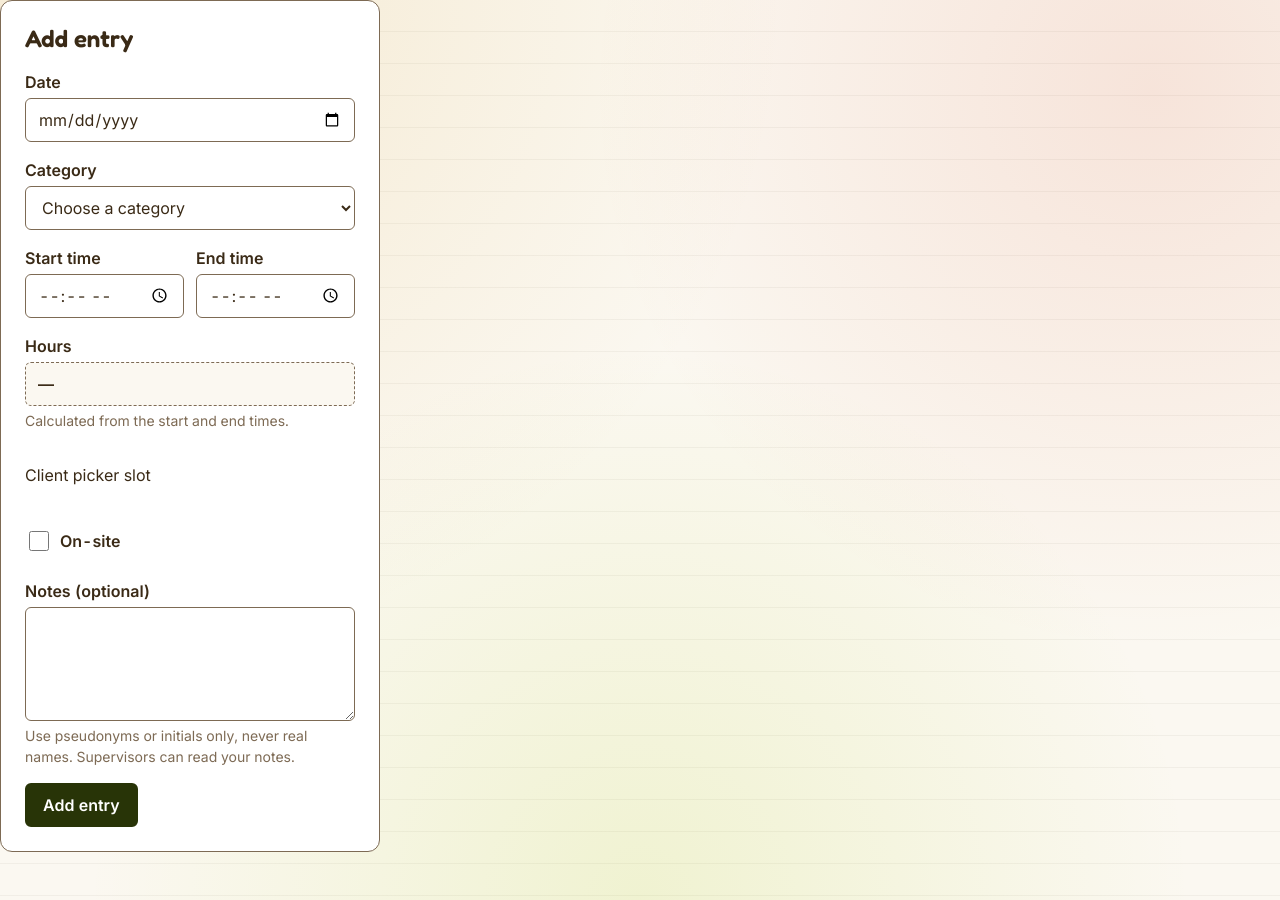
Test: adding an entry › works by clicking Add entry, sends the typed values without hours, then clears the form
The image size is (1280, 900).
Type "2026-10-12" into the date field labelled "Date". click: [190, 120]
box: [25,98,355,142]
Select "Individual Counseling" in the dropdown labelled "Category". click: [190, 208]
box: [25,186,355,230]
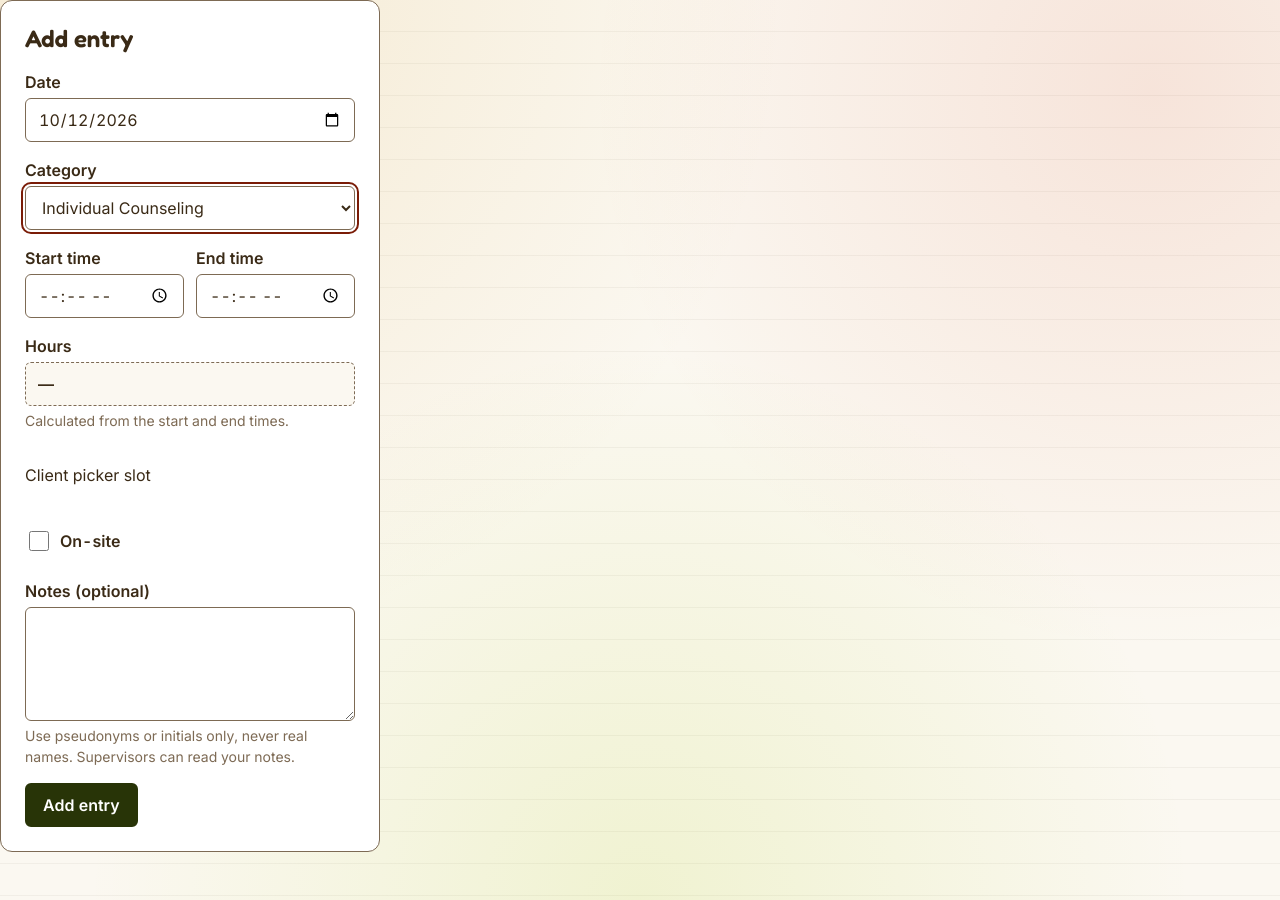
Type "0900" into the time field labelled "Start time". click: [104, 296]
box: [25,274,184,318]
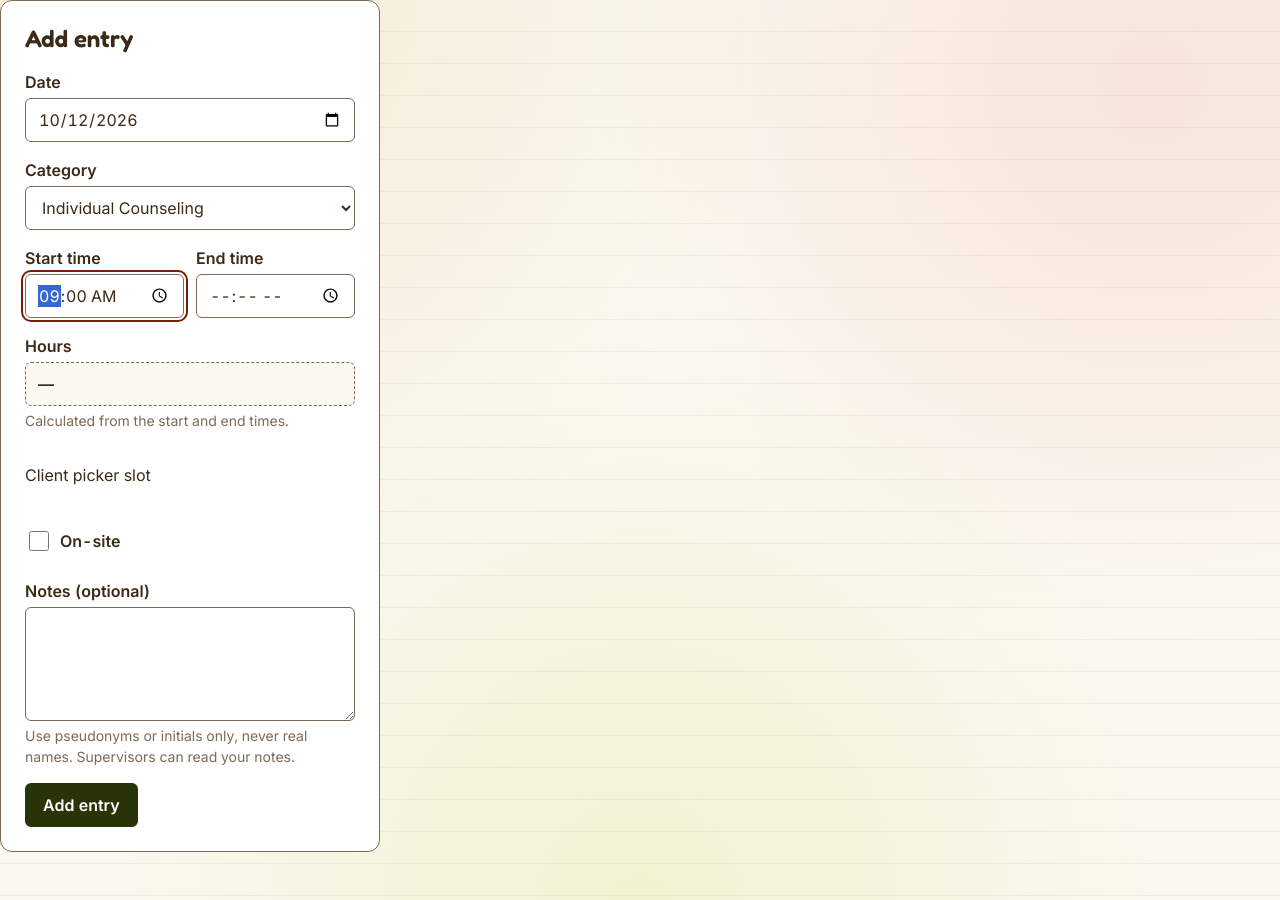
Type "1015" into the time field labelled "End time". click: [276, 296]
box: [196,274,355,318]
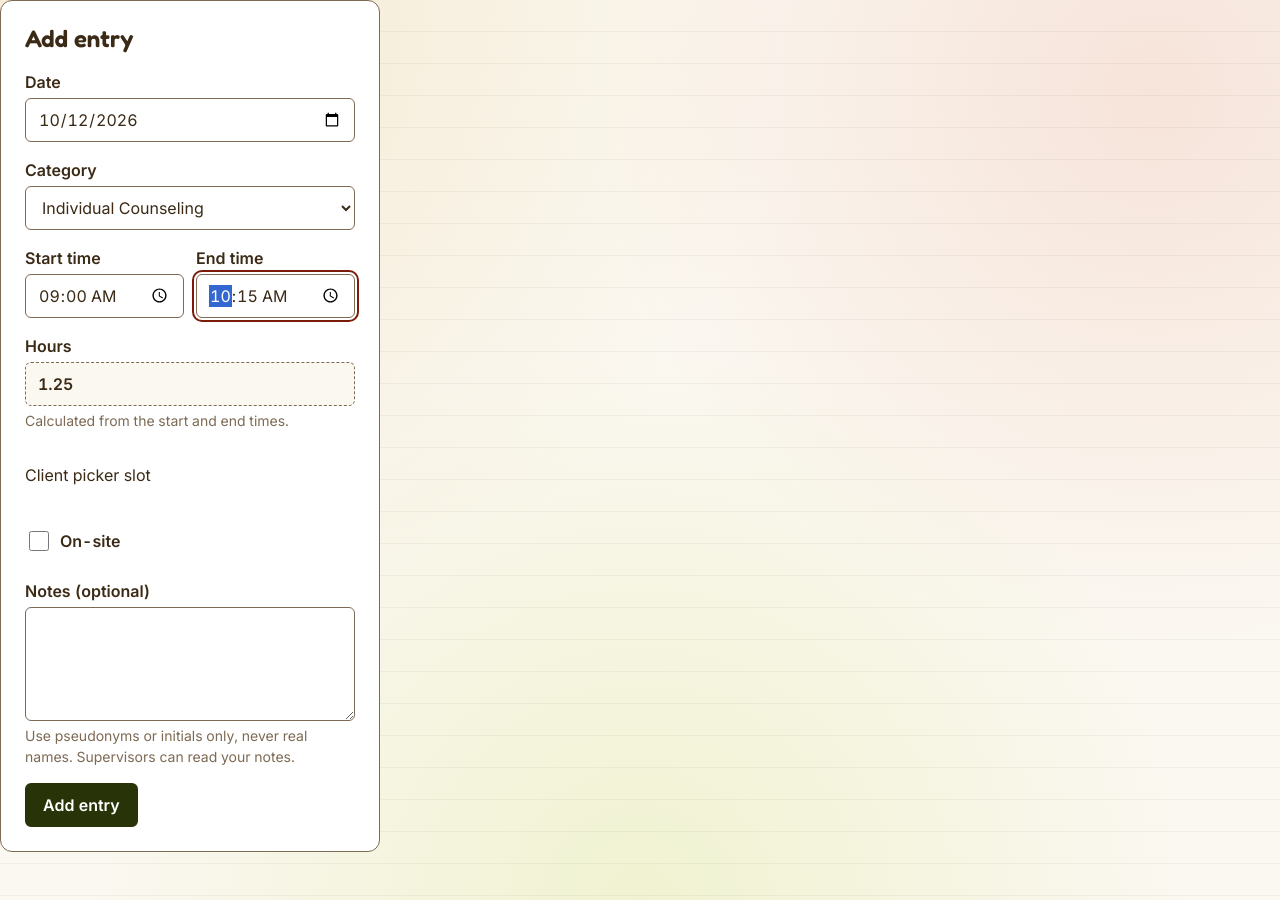
Click the checkbox labelled "On-site". click: [39, 541]
box: [29,531,49,551]
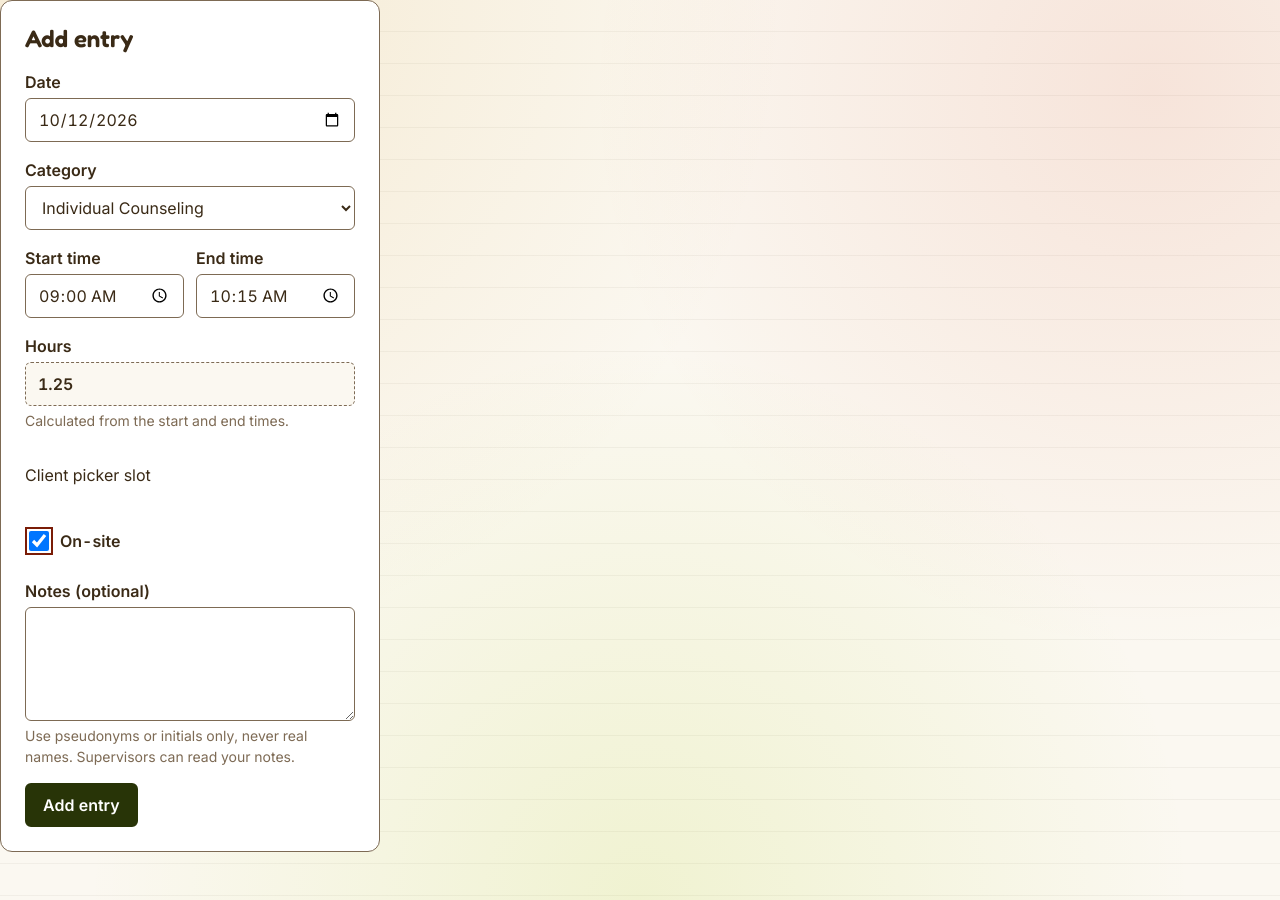
Type "Pseudonym A, intake" into the text box labelled "Notes (optional)". click: [190, 664]
box: [25,607,355,721]
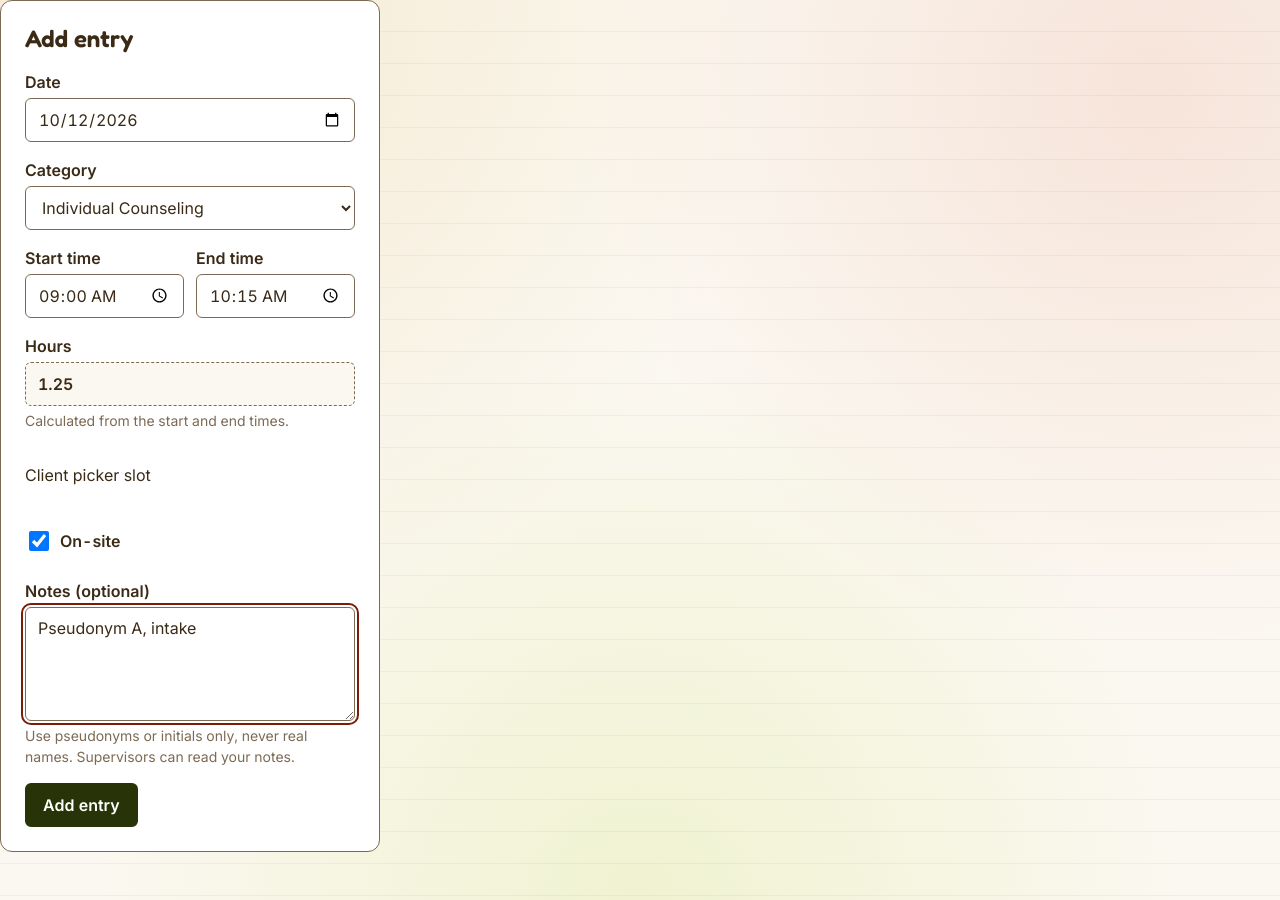
Click the button "Add entry". click: [81, 805]
box: [25,783,138,827]
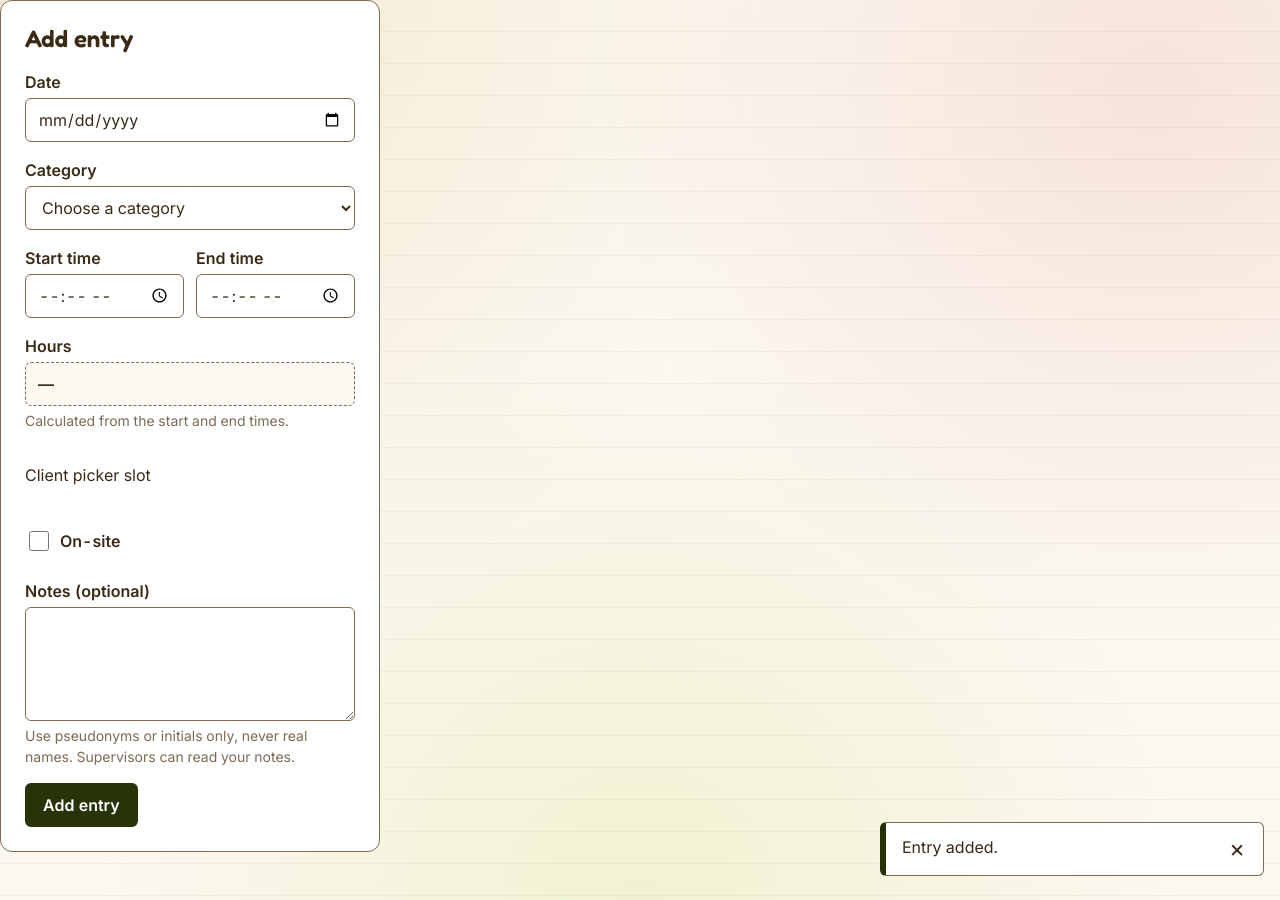
Expected: the text "Entry added." is shown, [902,837,998,857]
Expected: the date field labelled "Date" is empty, [25,98,355,142]
Expected: the text named "Hours" reads "—", [38,374,54,394]
